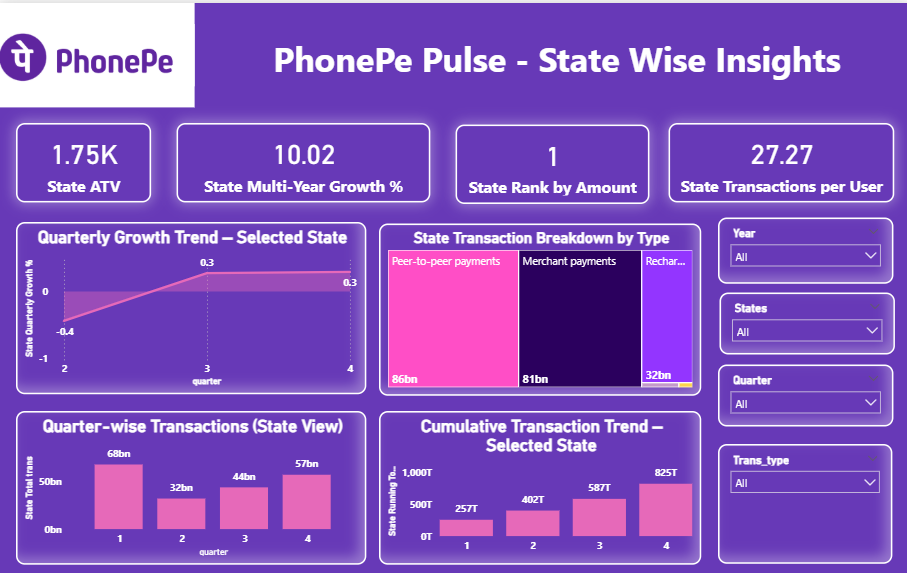

Layout of this report page (visuals, bound fields, positions):
{"tool":"powerbi","page":{"name":"PhonePe Pulse – State wise Insights","canvas":[1150,720],"ordinal":1},"visuals":[{"type":"image","box":[0,0,247.4,131.6],"z":0},{"type":"textbox","box":[247.4,0,1031.6,131.6],"z":1000},{"type":"card","fields":{"Values":["phonepe_state_master.State Average Transaction Value"]},"box":[22.8,150.9,170.2,100],"z":2000},{"type":"card","fields":{"Values":["phonepe_state_master.State Multi-Year Growth %"]},"box":[224.6,150.9,319.3,100],"z":4000},{"type":"card","fields":{"Values":["phonepe_state_master.State Rank by Amount"]},"box":[575.4,152.6,243.9,100],"z":5000},{"type":"card","fields":{"Values":["phonepe_state_master.State Transactions per User"]},"box":[843.9,150.9,284.2,100],"z":6000},{"type":"areaChart","title":"Quarterly Growth Trend – Selected State","fields":{"Category":["DimQuarter.quarter"],"Y":["phonepe_state_master.State Quarterly Growth %"]},"box":[22,276.3,440.7,216.9],"z":7000},{"type":"clusteredColumnChart","title":"Quarter-wise Transactions (State View)","fields":{"Category":["DimQuarter.quarter"],"Y":["phonepe_state_master.State Total trans"]},"box":[22,513.6,440.7,193.2],"z":8000},{"type":"treemap","title":"State Transaction Breakdown by Type","fields":{"Group":["phonepe_state_master.trans_type"],"Values":["phonepe_state_master.Total Transactions"]},"box":[480,276.7,405,216.7],"z":9000},{"type":"clusteredColumnChart","title":"Cumulative Transaction Trend – Selected State","fields":{"Category":["DimQuarter.quarter"],"Y":["phonepe_state_master.State Running Total Amount"]},"box":[480,513,405,193],"z":10000},{"type":"slicer","fields":{"Values":["DimYear.Year"]},"box":[905.1,269.5,220.3,83.1],"z":11000},{"type":"slicer","fields":{"Values":["DimState.states"]},"box":[906.8,364.4,220.3,78],"z":12000},{"type":"slicer","fields":{"Values":["DimQuarter.quarter"]},"box":[905.1,454.2,220.3,78],"z":13000},{"type":"slicer","fields":{"Values":["phonepe_state_master.trans_type"]},"box":[905.3,554.4,219.3,150.9],"z":15000}]}

Visuals, with their boxes in screenshot pixels (x1, y1, x2, y2), scaled from the page's 1150x720 canvas onto the 907x573 screenshot:
image: (left=0, top=0, right=195, bottom=105)
textbox: (left=195, top=0, right=906, bottom=105)
card - phonepe_state_master.State Average Transaction Value: (left=18, top=120, right=152, bottom=200)
card - phonepe_state_master.State Multi-Year Growth %: (left=177, top=120, right=429, bottom=200)
card - phonepe_state_master.State Rank by Amount: (left=454, top=121, right=646, bottom=201)
card - phonepe_state_master.State Transactions per User: (left=666, top=120, right=890, bottom=200)
"Quarterly Growth Trend – Selected State" areaChart: (left=17, top=220, right=365, bottom=393)
"Quarter-wise Transactions (State View)" clusteredColumnChart: (left=17, top=409, right=365, bottom=562)
"State Transaction Breakdown by Type" treemap: (left=379, top=220, right=698, bottom=393)
"Cumulative Transaction Trend – Selected State" clusteredColumnChart: (left=379, top=408, right=698, bottom=562)
slicer - DimYear.Year: (left=714, top=214, right=888, bottom=281)
slicer - DimState.states: (left=715, top=290, right=889, bottom=352)
slicer - DimQuarter.quarter: (left=714, top=361, right=888, bottom=424)
slicer - phonepe_state_master.trans_type: (left=714, top=441, right=887, bottom=561)
